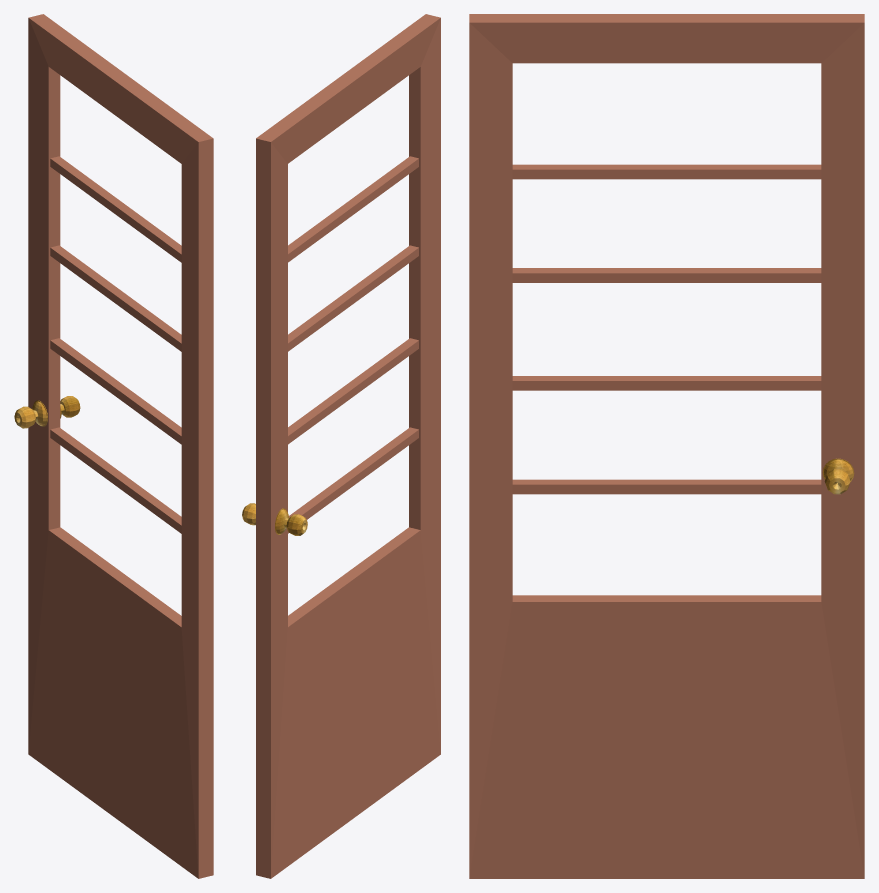
File: Puerta_comedor.obj
The picture shows the model from 3 angles, left to right: view 1: azimuth 30°, elevation 25°; view 2: azimuth 150°, elevation 25°; view 3: azimuth 270°, elevation 25°; orthographic projection. The views are drawn at different scales.
Parts seen in each view (by area): view 1: pasted__Puerta_comedor; view 2: pasted__Puerta_comedor; view 3: pasted__Puerta_comedor.
Boxes of the visible parts, x1,y1,x2,y2 form: pasted__Puerta_comedor: [14, 14, 213, 878]; pasted__Puerta_comedor: [242, 14, 440, 878]; pasted__Puerta_comedor: [469, 14, 864, 878].
Size of the model in its own units: 0.2476 by 2.95 by 1.23.
Materials: 2 (2 with a texture image).
